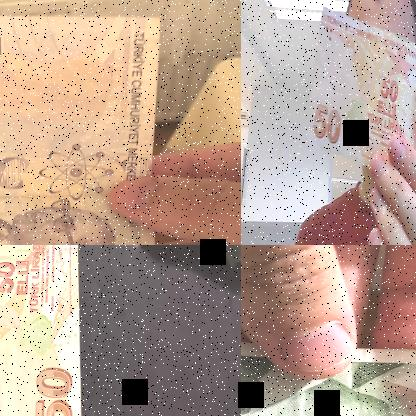5 TL: (0, 15, 174, 244)
